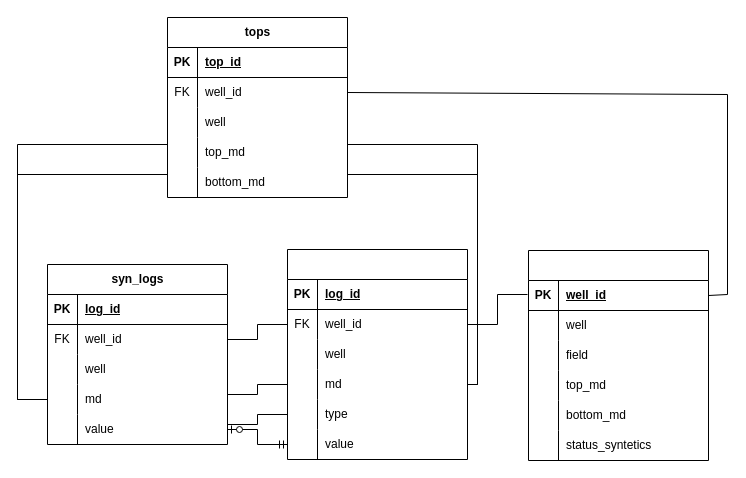
The diagram is 746 pixels wide and 478 high, and some of its shapes have lost their labels. The box of each missing label's shape, as (x1, y1, x2, y2) in pixels:
logs: (286, 248, 468, 460)
wells: (528, 250, 708, 460)
